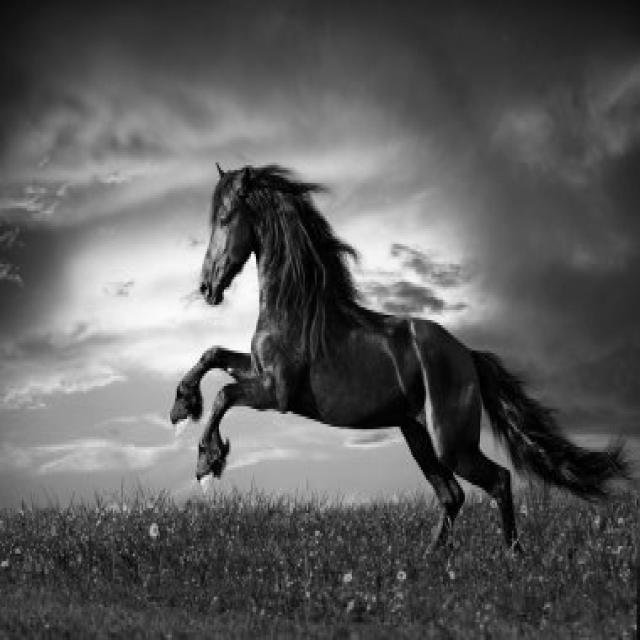Animal: (170, 166, 626, 549)
